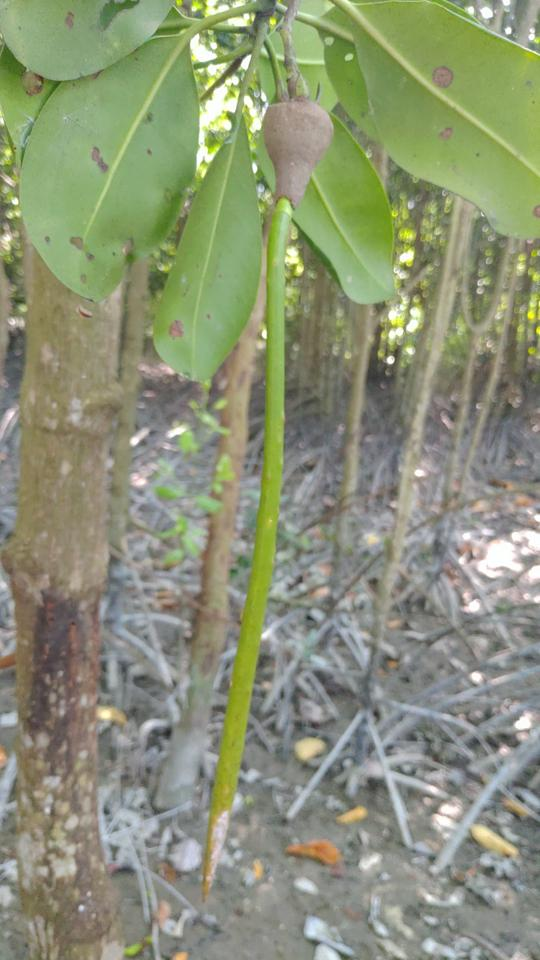setengah matang: (190, 70, 343, 911)
